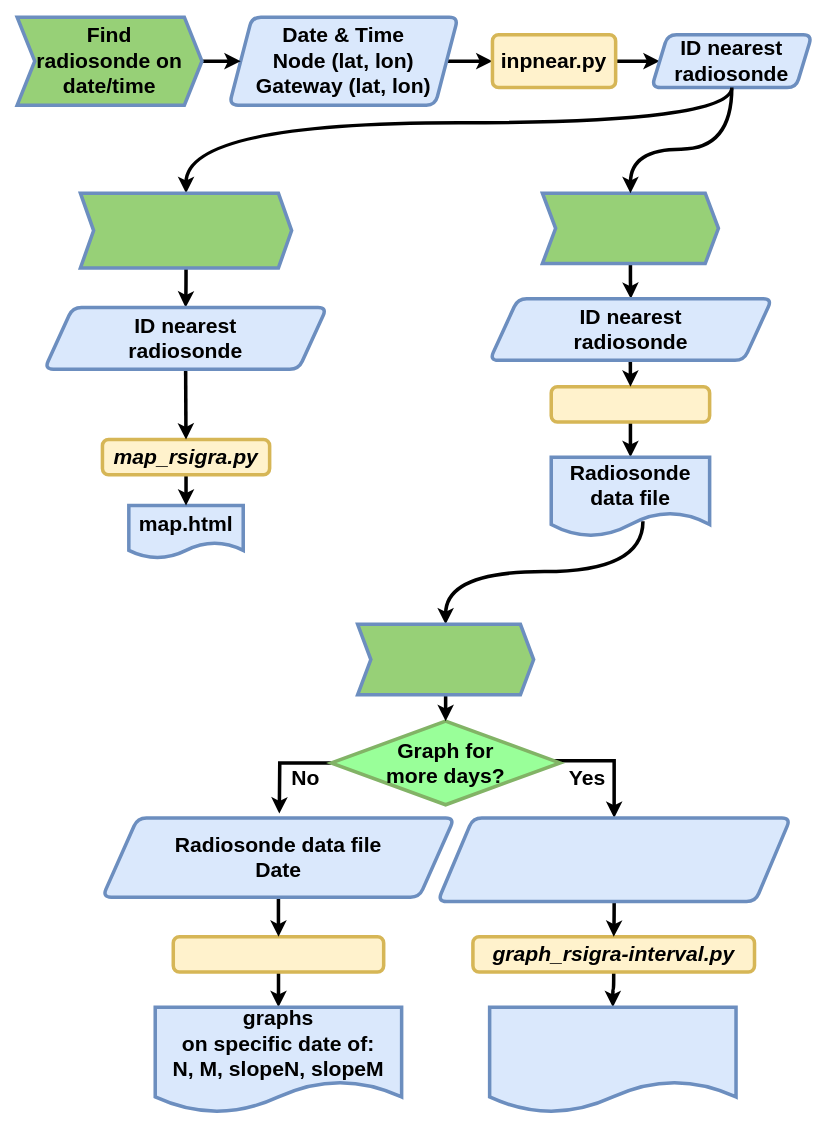
Image size: 829x1129. Some labels were removed from this diagram. Here are the shapes that lost their labels. From the top down, the centre of each, then its label:
the point at 185,230: Plot of relevant points
the point at 630,228: Radiosonde data
the point at 630,404: get_rsigra.py
the point at 445,659: Refractivity Graphs
the point at 614,859: Radiosonde data file Date Days interval
the point at 278,954: graph_rsigra-day.py
the point at 612,1059: graphs for specific interval: N, M, slopeN, slopeM
